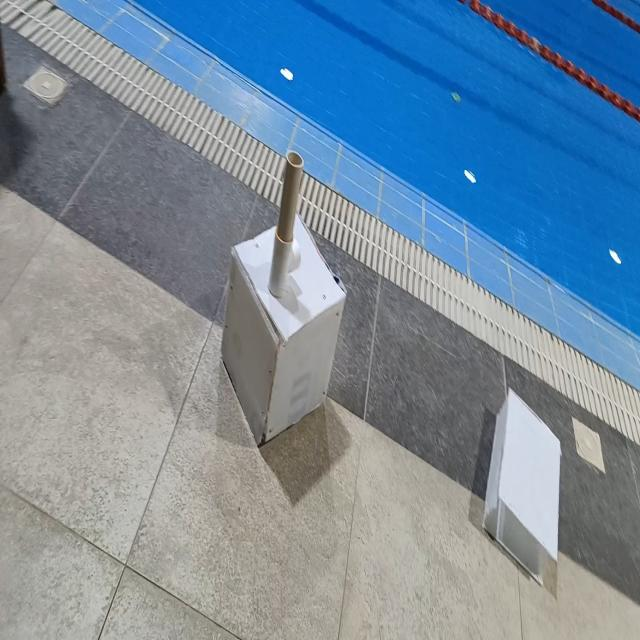Cube: (220, 211, 347, 446)
Cuboid: (482, 385, 562, 589)
